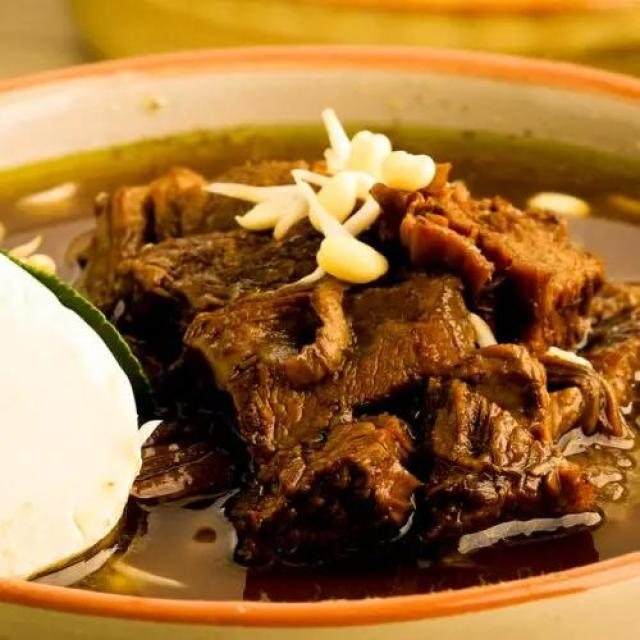Rawon: (1, 141, 635, 579)
